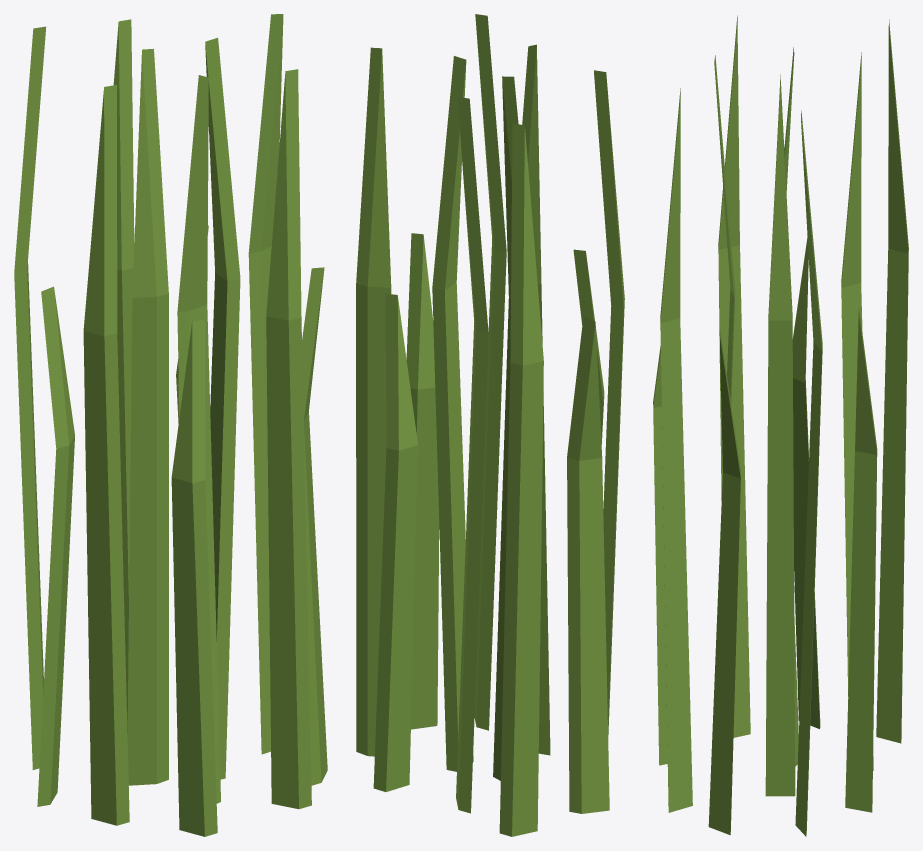
Rendered from grass-a.glb.
3 renders of one model, left to right at view 1: azimuth 30°, elevation 25°; view 2: azimuth 150°, elevation 25°; view 3: azimuth 270°, elevation 25°, orthographic. The views are drawn at different scales.
Visible parts, largest first — view 1: Grass; view 2: Grass; view 3: Grass.
Boxes of the visible parts, <box> form: Grass: <box>14,14,327,836</box>; Grass: <box>356,14,624,836</box>; Grass: <box>653,15,908,836</box>.
Bounding box in the file's own units: 0.203 × 0.55 × 0.1777.
